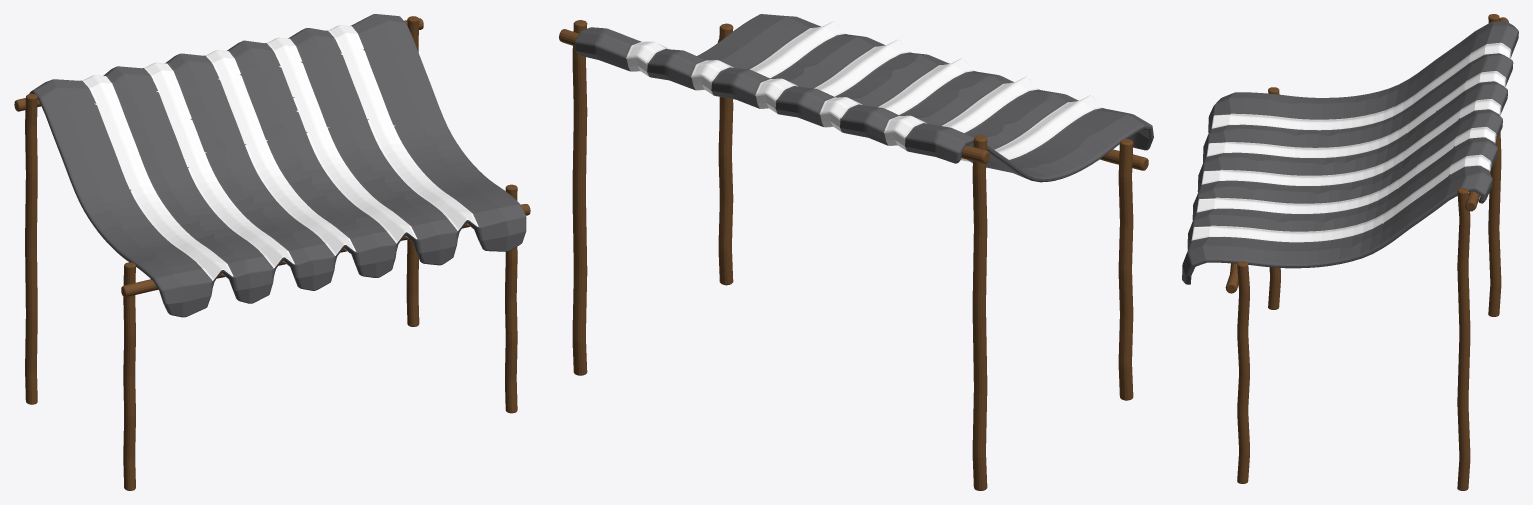
Rendered from market-stall3.fbx.
The picture shows the model from 3 angles, left to right: view 1: azimuth 30°, elevation 25°; view 2: azimuth 150°, elevation 25°; view 3: azimuth 270°, elevation 25°; orthographic projection. The views are drawn at different scales.
Visible parts, largest first — view 1: Plane.069; view 2: Plane.069; view 3: Plane.069.
Boxes of the visible parts, x1=… form: Plane.069: x1=14, y1=14, x2=530, y2=490; Plane.069: x1=559, y1=14, x2=1153, y2=490; Plane.069: x1=1182, y1=14, x2=1518, y2=490.
Bounding box in the file's own units: 482 × 353 × 356.
